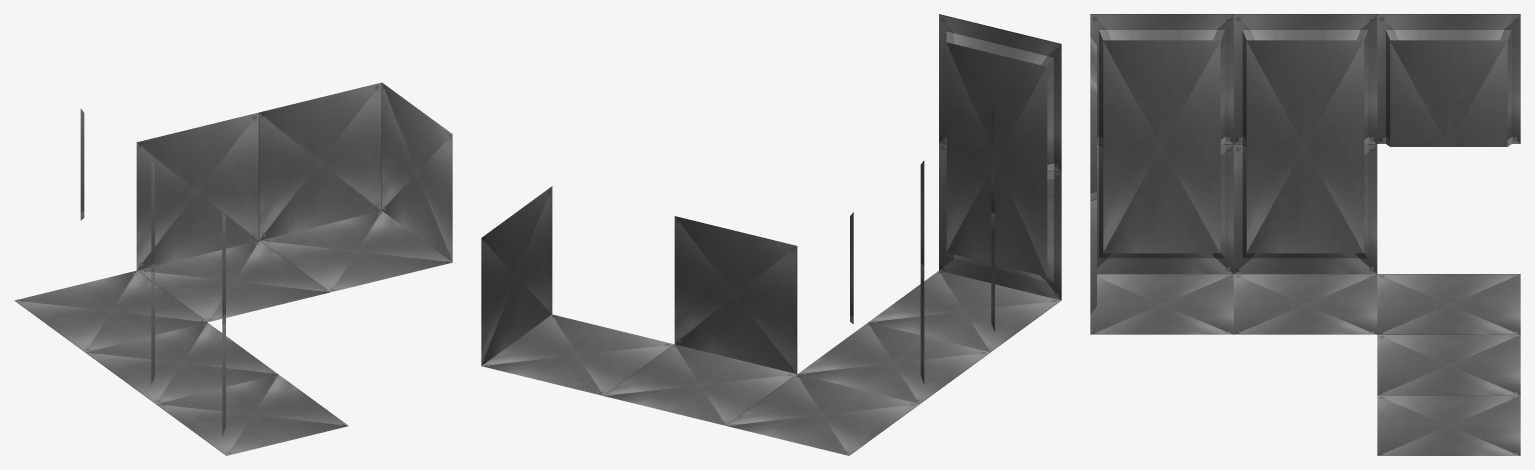
Rendered from vents1.glb.
3 renders of one model, left to right at view 1: azimuth 30°, elevation 25°; view 2: azimuth 150°, elevation 25°; view 3: azimuth 270°, elevation 25°, orthographic.
Parts seen in each view (by area): view 1: CSGCombiner3D2.004, CSGCombiner3D2.003, CSGCombiner3D2.002, CSGCombiner3D2, CSGCombiner3D2.001, CSGCombiner3D2.005; view 2: CSGCombiner3D2.002, CSGCombiner3D2.003, CSGCombiner3D2.004, CSGCombiner3D2, CSGCombiner3D2.001; view 3: CSGCombiner3D2, CSGCombiner3D2.002, CSGCombiner3D2.005, CSGCombiner3D2.003, CSGCombiner3D2.001, CSGCombiner3D2.004.
Boxes of the visible parts, x1,y1,x2,y2 form: CSGCombiner3D2.004: (259, 82, 452, 292); CSGCombiner3D2.003: (136, 112, 329, 322); CSGCombiner3D2.002: (156, 212, 348, 455); CSGCombiner3D2: (85, 160, 277, 403); CSGCombiner3D2.001: (14, 270, 207, 352); CSGCombiner3D2.005: (80, 108, 84, 220); CSGCombiner3D2.002: (868, 14, 1061, 352); CSGCombiner3D2.003: (604, 216, 797, 425); CSGCombiner3D2.004: (481, 186, 674, 395); CSGCombiner3D2: (798, 160, 990, 403); CSGCombiner3D2.001: (727, 374, 919, 455); CSGCombiner3D2: (1233, 14, 1377, 334); CSGCombiner3D2.002: (1090, 14, 1233, 334); CSGCombiner3D2.005: (1377, 14, 1520, 146); CSGCombiner3D2.003: (1377, 334, 1520, 395); CSGCombiner3D2.001: (1377, 274, 1520, 334); CSGCombiner3D2.004: (1377, 395, 1520, 455).
Bounding box in the file's own units: 3 × 2 × 3.
1 material, 1 textured.
